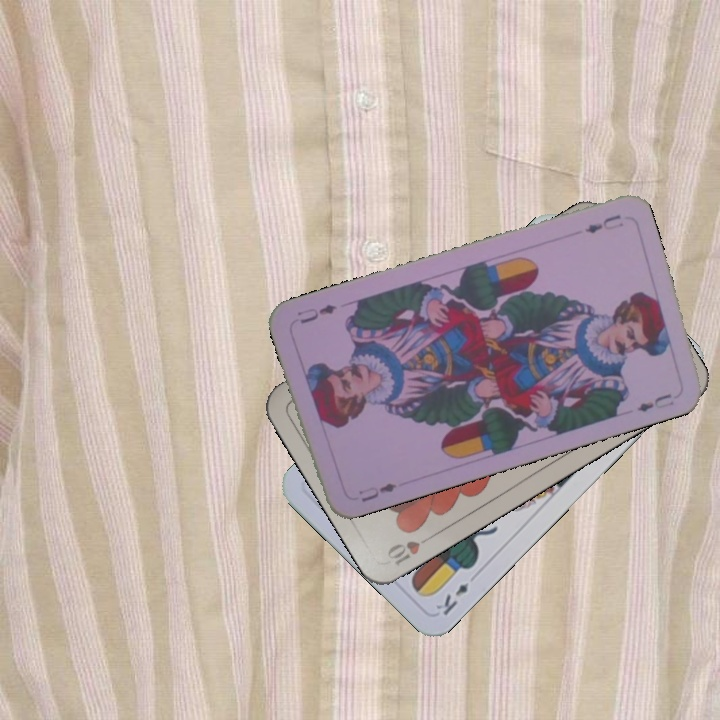EK: (431, 579, 472, 618)
EU: (580, 210, 626, 237), (354, 479, 399, 505)
H10: (382, 530, 438, 569)
